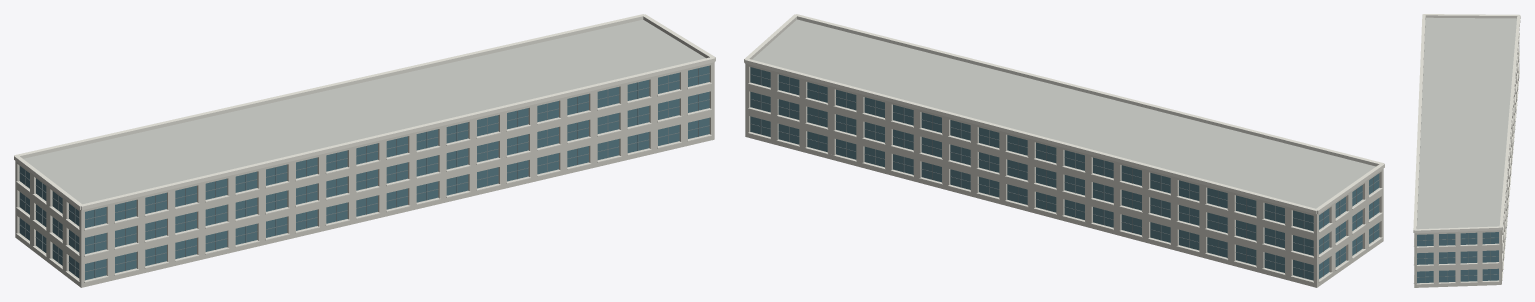
The picture shows the model from 3 angles, left to right: view 1: azimuth 30°, elevation 25°; view 2: azimuth 150°, elevation 25°; view 3: azimuth 270°, elevation 25°; orthographic projection. The views are drawn at different scales.
Parts seen in each view (by area): view 1: roof, wall, glass, trim, metal; view 2: roof, wall, glass, trim, metal; view 3: roof, trim, wall, glass, metal.
Boxes of the visible parts, x1,y1,x2,y2 form: roof: [23, 19, 705, 204]; wall: [15, 62, 714, 287]; glass: [19, 65, 709, 280]; trim: [14, 14, 715, 282]; metal: [19, 68, 709, 277]; roof: [752, 19, 1375, 208]; wall: [745, 63, 1383, 287]; glass: [750, 67, 1379, 280]; trim: [744, 14, 1384, 282]; metal: [750, 70, 1379, 277]; roof: [1417, 17, 1516, 229]; trim: [1413, 14, 1520, 284]; wall: [1414, 42, 1519, 287]; glass: [1417, 232, 1498, 283]; metal: [1417, 232, 1498, 282].
Size of the model in its own units: 78.4 by 9.74 by 16.39.
